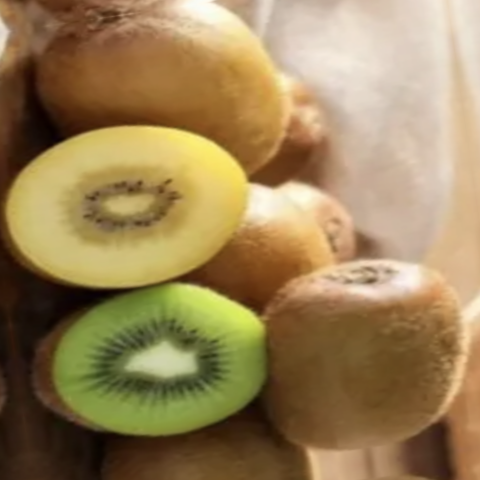kiwi: (0, 0, 341, 222), (250, 230, 480, 475)
